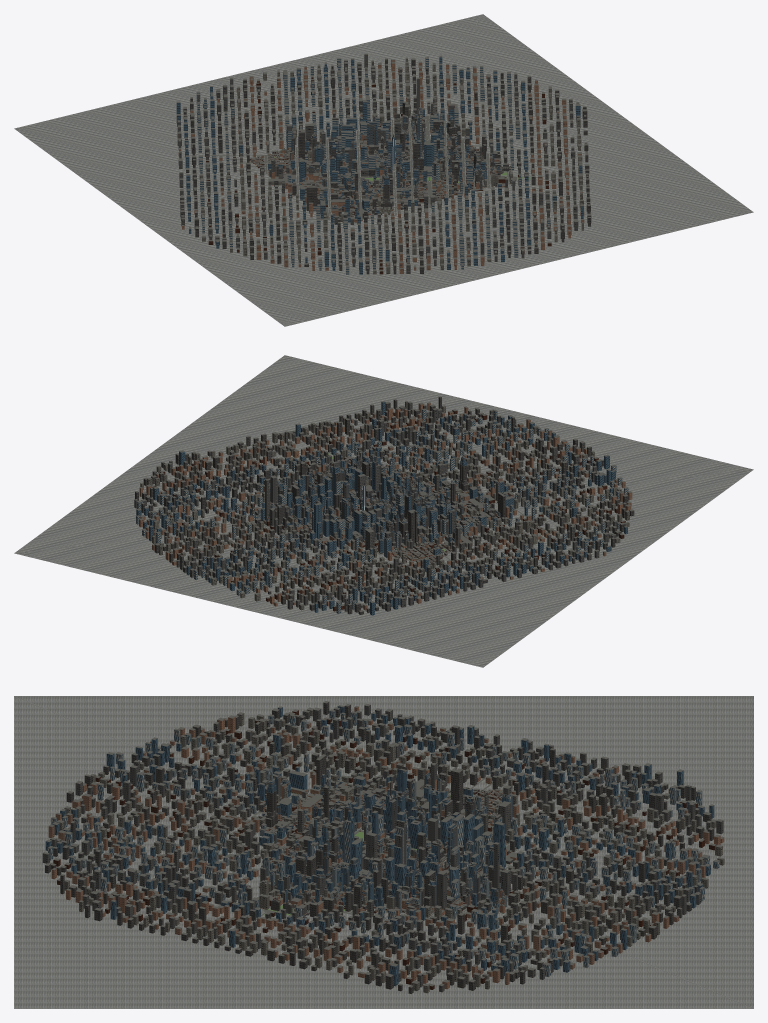
Rendered from city.glb.
3 views of the same model, one above another, from view 1: azimuth 30°, elevation 25°; view 2: azimuth 150°, elevation 25°; view 3: azimuth 270°, elevation 25° (orthographic). The views are drawn at different scales.
Visible parts, largest first — view 1: ground, streets, block_0_-1, block_0_-2, block_-2_0, block_0_1, block_1_-2, block_-1_-2, block_-3_-2, block_-1_1, block_-2_-1, block_-2_1 (+50 smaller); view 2: ground, block_-2_1, block_-1_1, block_1_1, block_1_0, block_-2_0, block_0_-1, block_0_1, block_-3_0, block_-1_-2, block_1_-5, block_0_-3 (+71 smaller); view 3: ground, block_1_-2, block_2_0, block_1_0, block_1_1, block_2_-1, block_0_-1, block_-1_-2, block_-1_0, block_-1_1, block_0_1, block_1_-1 (+81 smaller).
Boxes of the visible parts, x1,y1,x2,y2 form: ground: [14, 14, 753, 326]; streets: [204, 115, 530, 223]; block_0_-1: [383, 133, 445, 181]; block_0_-2: [406, 157, 463, 201]; block_-2_0: [283, 143, 342, 184]; block_0_1: [339, 99, 396, 150]; block_1_-2: [448, 152, 506, 192]; block_-1_-2: [368, 164, 427, 210]; block_-3_-2: [296, 186, 352, 232]; block_-1_1: [298, 117, 356, 159]; block_-2_-1: [306, 166, 362, 199]; block_-2_1: [261, 124, 323, 171]; ground: [14, 355, 753, 667]; block_-2_1: [379, 509, 437, 561]; block_-1_1: [342, 510, 396, 553]; block_1_1: [262, 479, 320, 533]; block_1_0: [283, 461, 342, 514]; block_-2_0: [402, 501, 462, 546]; block_0_-1: [349, 456, 405, 505]; block_0_1: [300, 498, 348, 543]; block_-3_0: [438, 521, 500, 555]; block_-1_-2: [411, 445, 468, 502]; block_1_-5: [398, 402, 456, 435]; block_0_-3: [395, 445, 447, 476]; ground: [14, 696, 753, 1008]; block_1_-2: [259, 854, 325, 906]; block_2_0: [384, 870, 447, 930]; block_1_0: [381, 819, 449, 903]; block_1_1: [445, 842, 510, 907]; block_2_-1: [321, 881, 386, 930]; block_0_-1: [321, 810, 385, 874]; block_-1_-2: [259, 764, 324, 853]; block_-1_0: [382, 778, 443, 850]; block_-1_1: [440, 796, 510, 853]; block_0_1: [443, 821, 509, 874]; block_1_-1: [322, 843, 382, 904].
Bounding box in the file's own units: 4800 × 443 × 4800.
Materials: 24 (12 with a texture image).
